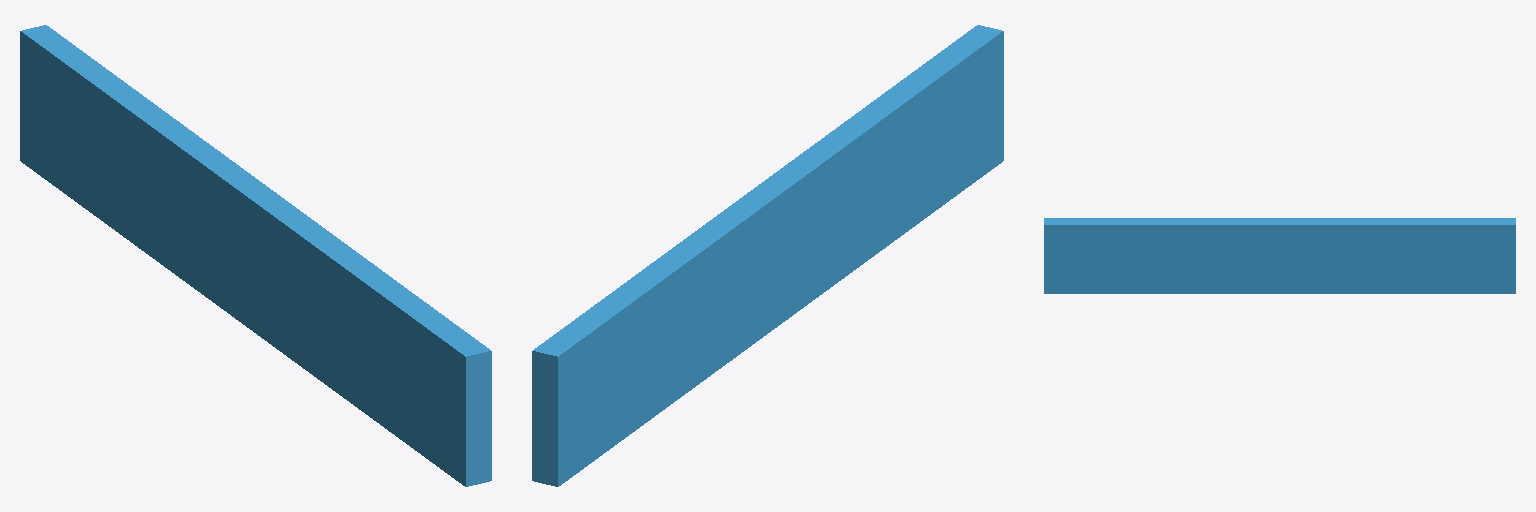
The robot description file, URDF, robot "box_55":
<?xml version="1.0" encoding="utf-8"?>    
    
    <robot name="box_55">
        <link name="box_55">    
            <fem>
                <origin rpy="0.0 0.0 0.0" xyz="0 0 0" />
                <density value="100" />
                <youngs value="3514"/>
                <poissons value="0.3" />
                <damping value="0.0" />
                <attachDistance value="0.01" />
                <tetmesh filename="[local-path]/sim_data/Custom/Custom_mesh/multi_boxes_5kPa/box_55.tet" />
                <scale value="0.5"/>
            </fem>
        </link>

        <link name="fix_frame">
            <visual>
                <origin xyz="-10.042665638449714 0.0 0.0"/>              
                <geometry>
                    <box size="0.005 0.15 0.024246854687515064"/>
                </geometry>
            </visual>
            <collision>
                <origin xyz="-0.042665638449713626 0.0 0.0"/>              
                <geometry>
                    <box size="0.005 0.15 0.024246854687515064"/>
                </geometry>
            </collision>
            <inertial>
                <mass value="500000"/>
                <inertia ixx="0.05" ixy="0.0" ixz="0.0" iyy="0.05" iyz="0.0" izz="0.05"/>
            </inertial>
        </link>
        
        <joint name = "attach" type = "fixed">
            <origin xyz = "0.0 0.0 0.0" rpy = "0 0 0"/>
            <parent link ="box_55"/>
            <child link = "fix_frame"/>
        </joint>  




    </robot>
    

--- What the picture shows (computed from the rendered views, not written in the file) ---
The picture shows the robot from 3 angles, left to right: view 1: azimuth 30°, elevation 25°; view 2: azimuth 150°, elevation 25°; view 3: azimuth 270°, elevation 25°; orthographic projection.
Model box_55 with 2 links and 1 joints (1 fixed), rooted at box_55, posed every joint at zero.
Visible links, largest first — view 1: fix_frame; view 2: fix_frame; view 3: fix_frame.
Boxes of the visible links, x1=… form: fix_frame: x1=20, y1=25, x2=491, y2=486; fix_frame: x1=532, y1=25, x2=1003, y2=486; fix_frame: x1=1044, y1=218, x2=1515, y2=293.
Bounding box of the posed robot: 0.005 × 0.15 × 0.0242 m (x, y, z).
Geometry: primitives only (box / cylinder / sphere), no mesh files.